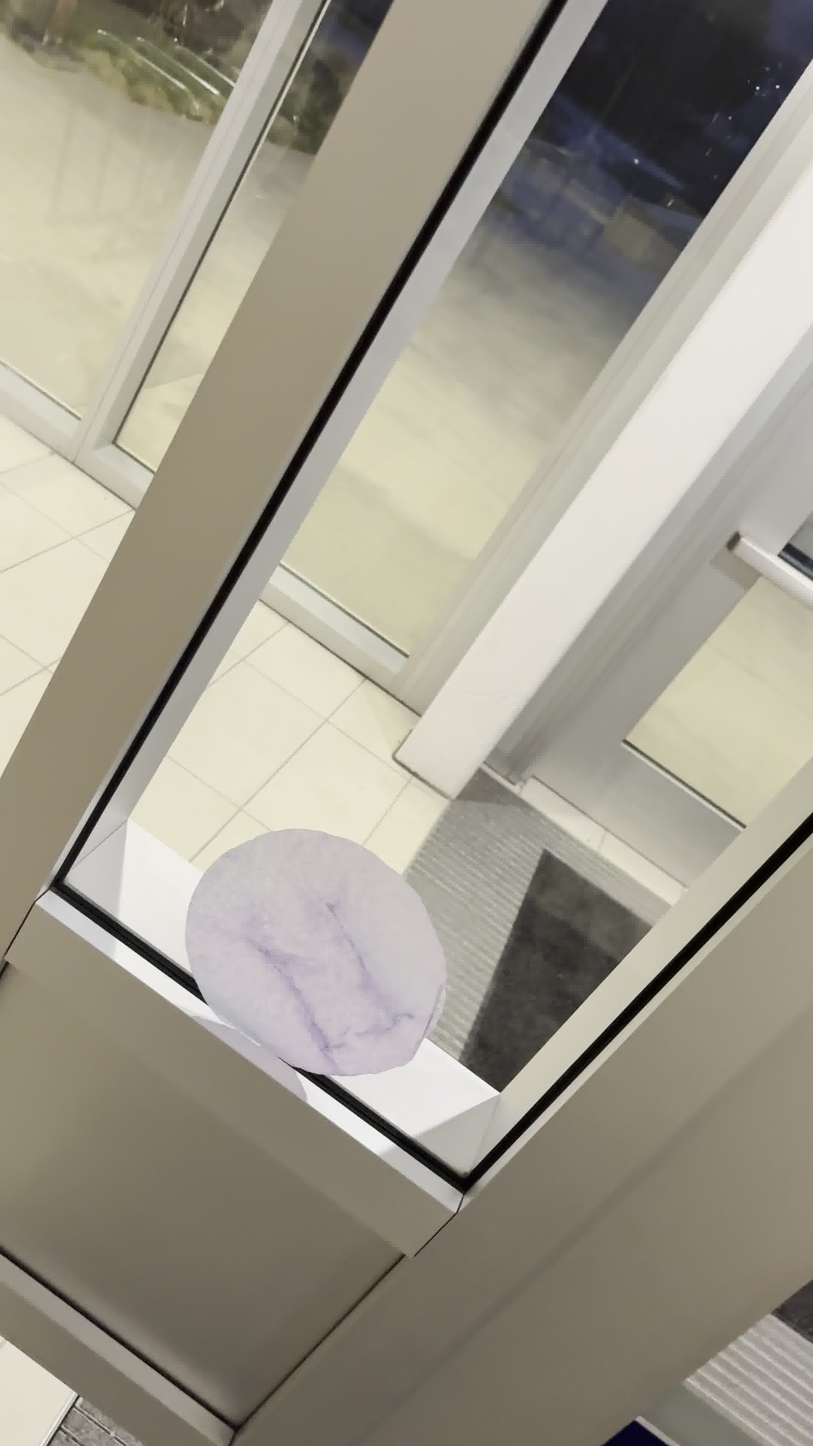Target: (179, 827, 460, 1085)
